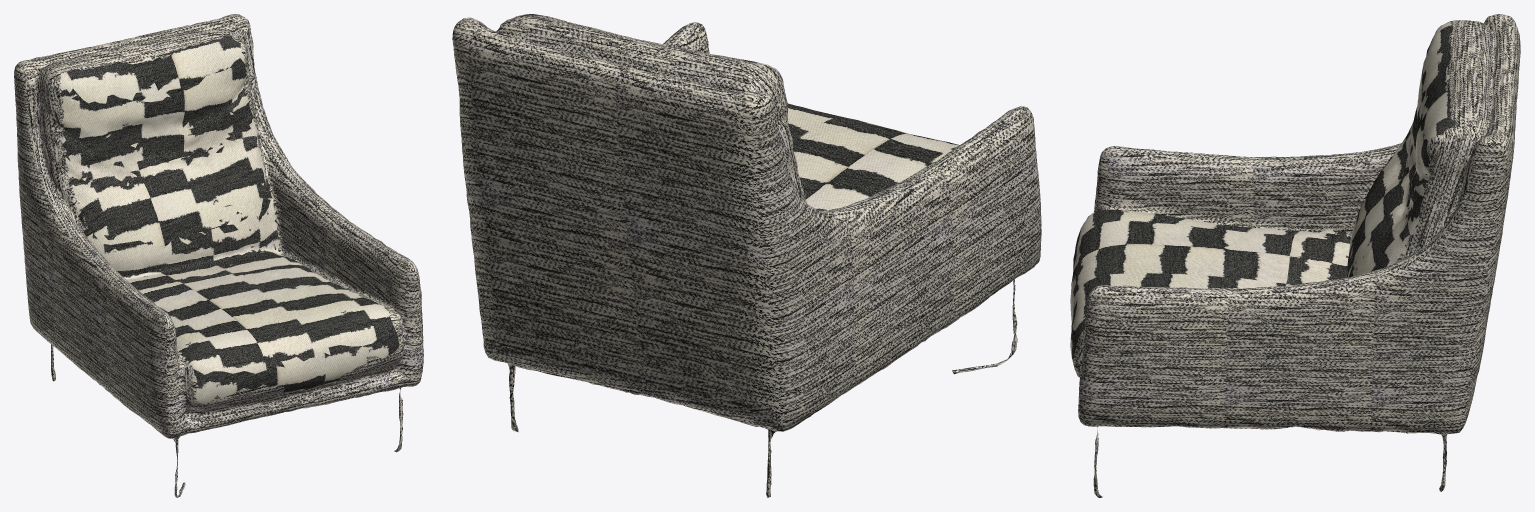
Rendered from alba - brick.glb.
The picture shows the model from 3 angles, left to right: view 1: azimuth 30°, elevation 25°; view 2: azimuth 150°, elevation 25°; view 3: azimuth 270°, elevation 25°; orthographic projection. The views are drawn at different scales.
Parts seen in each view (by area): view 1: Mesh; view 2: Mesh; view 3: Mesh.
Boxes of the visible parts, x1,y1,x2,y2 form: Mesh: (14, 14, 423, 497); Mesh: (452, 14, 1041, 497); Mesh: (1070, 14, 1520, 497).
Size of the model in its own units: 0.7086 by 0.8158 by 0.8927.
Materials: 2 (2 with a texture image).
